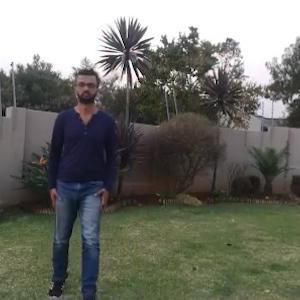follow: (41, 52, 122, 299)
